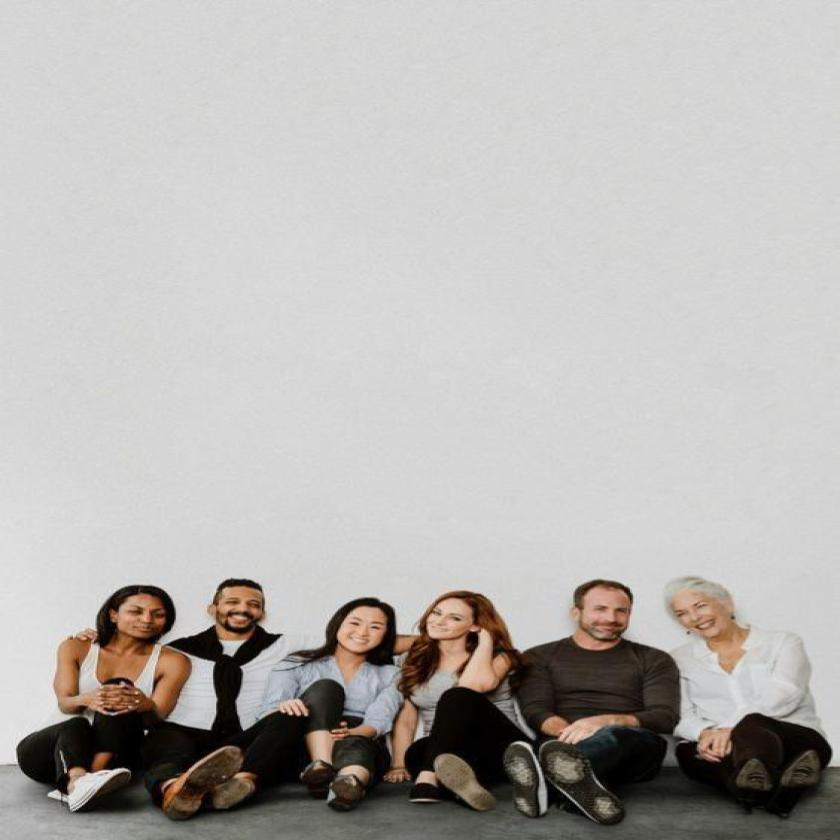Sin_casco: (663, 578, 743, 656), (566, 578, 644, 650), (104, 582, 182, 652), (423, 589, 499, 660), (334, 597, 400, 664), (203, 573, 270, 638)
